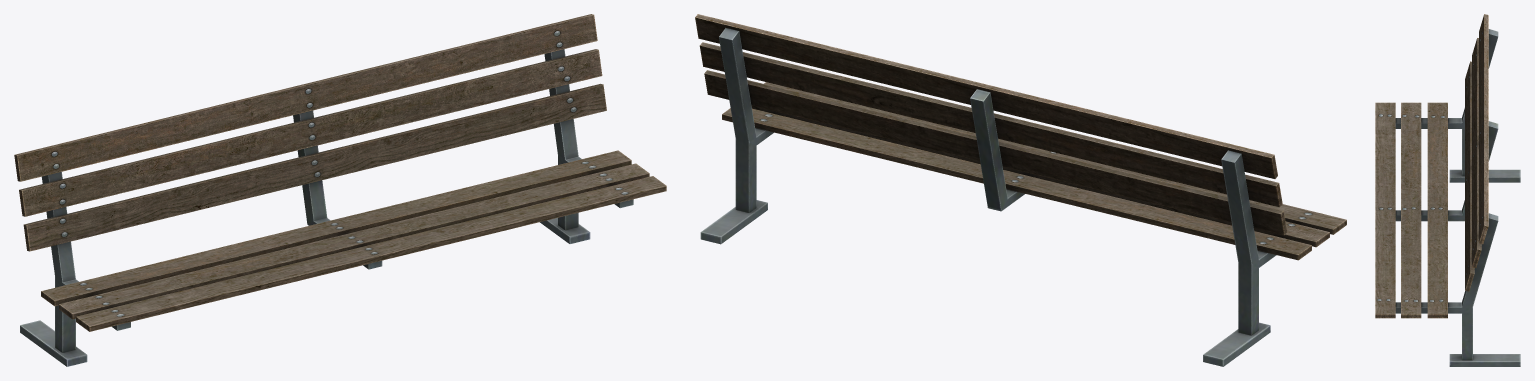
The model's file is Sun_0021_Park_Bench.fbx.
3 renders of one model, left to right at view 1: azimuth 30°, elevation 25°; view 2: azimuth 150°, elevation 25°; view 3: azimuth 270°, elevation 25°, orthographic. The views are drawn at different scales.
Parts seen in each view (by area): view 1: Sun_0021_Park_Bench; view 2: Sun_0021_Park_Bench; view 3: Sun_0021_Park_Bench.
Boxes of the visible parts, left/top/right/bottom form: Sun_0021_Park_Bench: left=14, top=14, right=666, bottom=366; Sun_0021_Park_Bench: left=695, top=14, right=1346, bottom=366; Sun_0021_Park_Bench: left=1375, top=14, right=1520, bottom=366.
Bounding box in the file's own units: 230 × 76.51 × 66.64.
